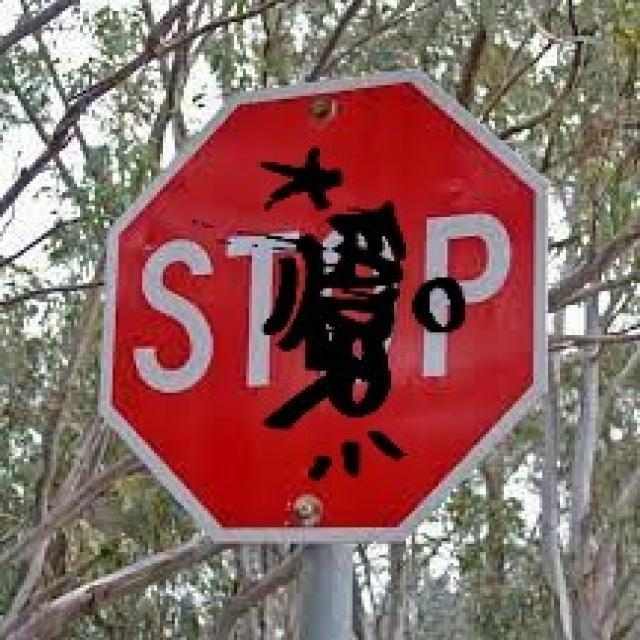Stop-Sign: (131, 82, 531, 534)
